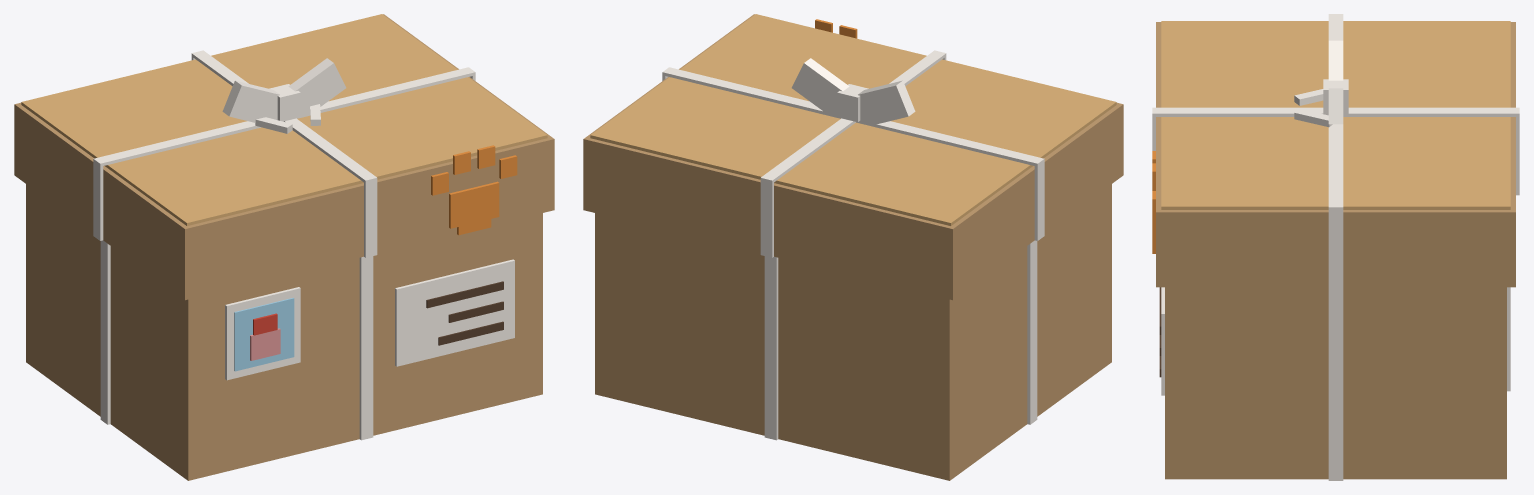
File: CatCafe_Prop_Crate_Neighbourhood.glb
3 views of the same model, side by side, from view 1: azimuth 30°, elevation 25°; view 2: azimuth 150°, elevation 25°; view 3: azimuth 270°, elevation 25° (orthographic). The views are drawn at different scales.
Visible parts, largest first — view 1: CatCafe_Prop_Crate_Neighbourhood_Lid, CatCafe_Prop_Crate_Neighbourhood; view 2: CatCafe_Prop_Crate_Neighbourhood_Lid, CatCafe_Prop_Crate_Neighbourhood; view 3: CatCafe_Prop_Crate_Neighbourhood_Lid, CatCafe_Prop_Crate_Neighbourhood.
Boxes of the visible parts, bbox=[...] form: CatCafe_Prop_Crate_Neighbourhood_Lid: bbox=[14, 14, 554, 300]; CatCafe_Prop_Crate_Neighbourhood: bbox=[26, 184, 542, 480]; CatCafe_Prop_Crate_Neighbourhood_Lid: bbox=[583, 14, 1123, 300]; CatCafe_Prop_Crate_Neighbourhood: bbox=[595, 184, 1111, 480]; CatCafe_Prop_Crate_Neighbourhood_Lid: bbox=[1152, 14, 1519, 288]; CatCafe_Prop_Crate_Neighbourhood: bbox=[1159, 287, 1510, 480].
Bounding box in the file's own units: 2.54 × 1.98 × 2.04.
Materials: 1 (1 with a texture image).
